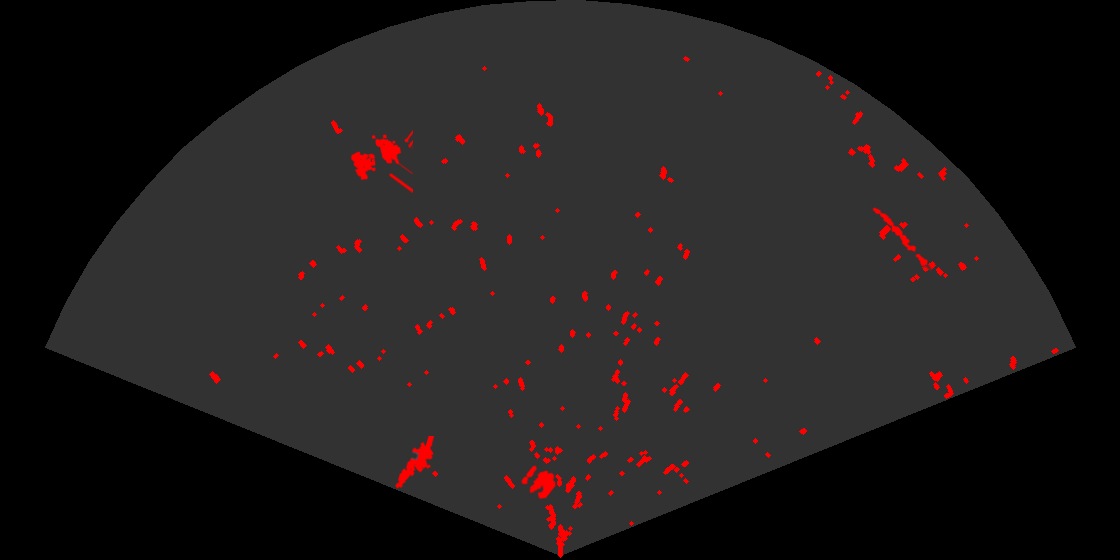ball: (519, 464, 558, 501)
cage: (349, 128, 413, 195)
chain: (871, 206, 934, 271)
frogman: (394, 436, 436, 491)
